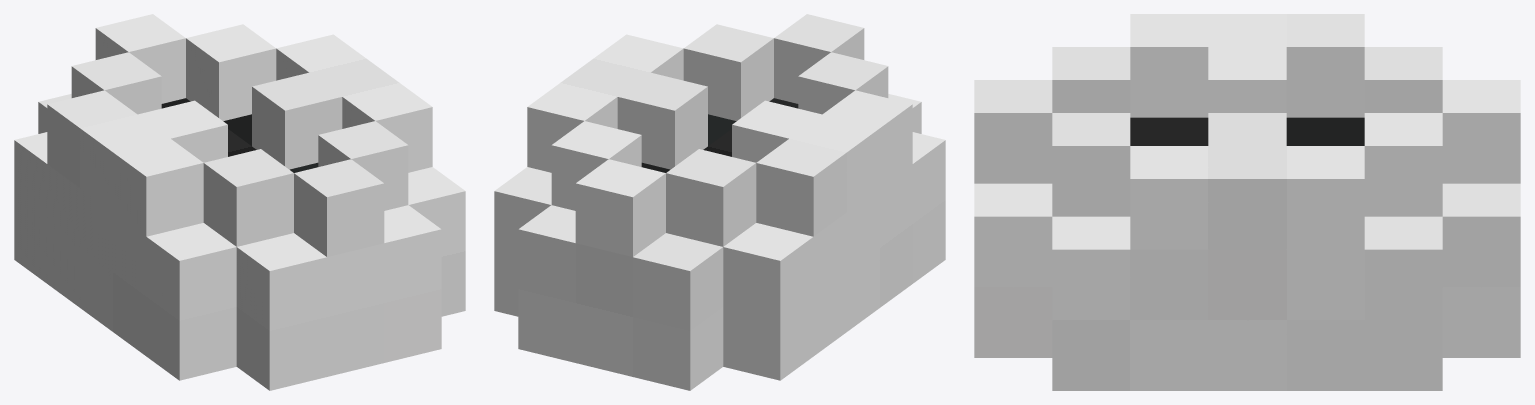
Rendered from Shell 2.dae.
3 views of the same model, side by side, from view 1: azimuth 30°, elevation 25°; view 2: azimuth 150°, elevation 25°; view 3: azimuth 270°, elevation 25° (orthographic). The views are drawn at different scales.
Parts seen in each view (by area): view 1: Shell 2; view 2: Shell 2; view 3: Shell 2.
Boxes of the visible parts, <box> form: Shell 2: <box>14,14,465,390</box>; Shell 2: <box>494,14,945,390</box>; Shell 2: <box>974,14,1520,390</box>.
Size of the model in its own units: 5 by 3 by 7.
Materials: 1 (1 with a texture image).
